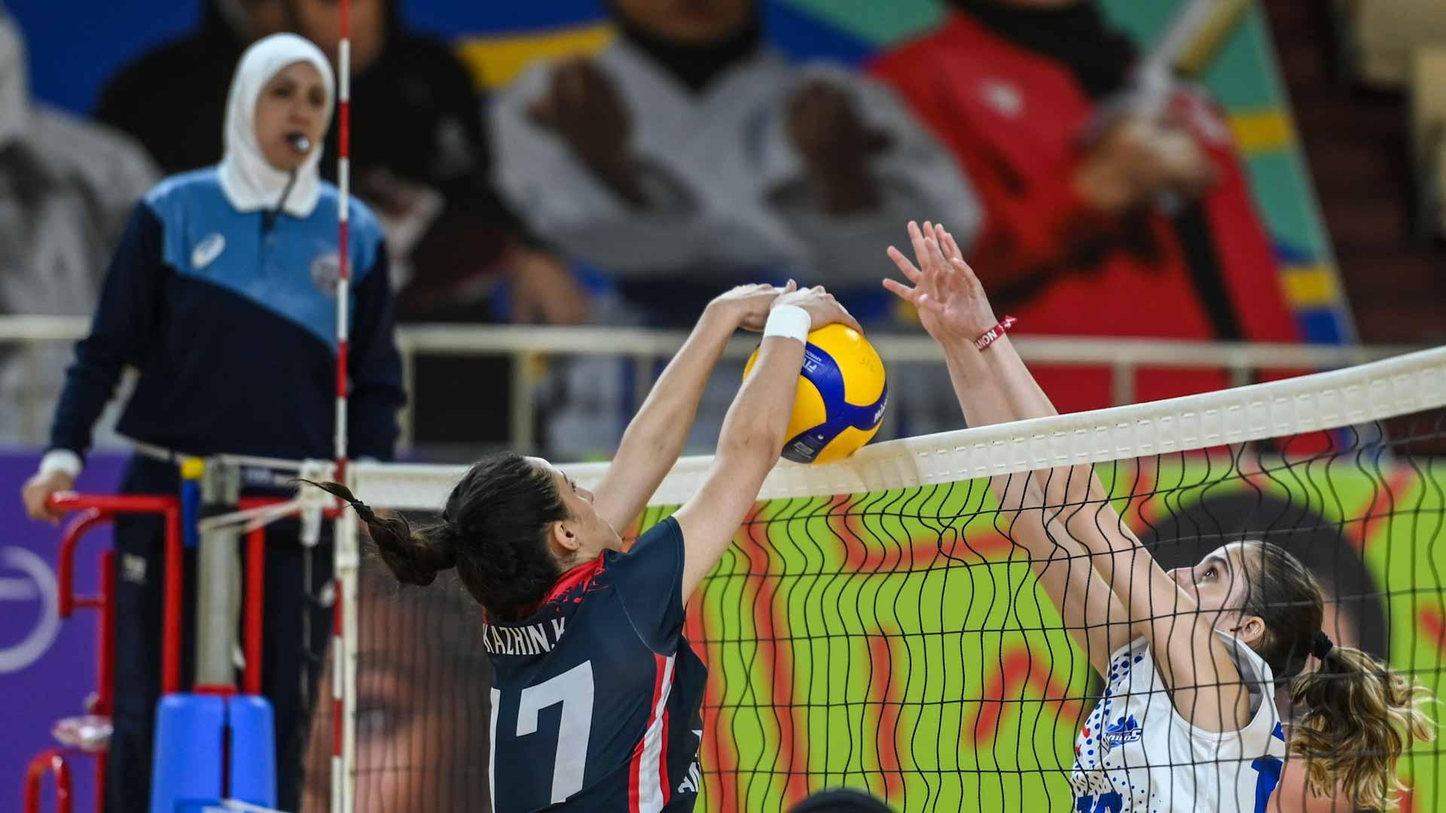ballon_volley: (740, 314, 890, 467)
